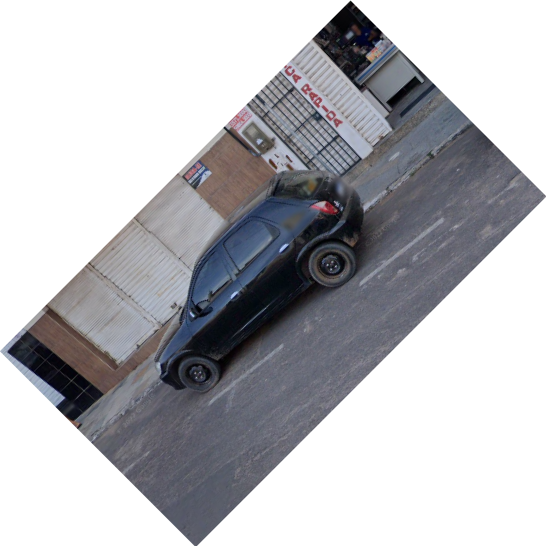car: (145, 161, 369, 398)
